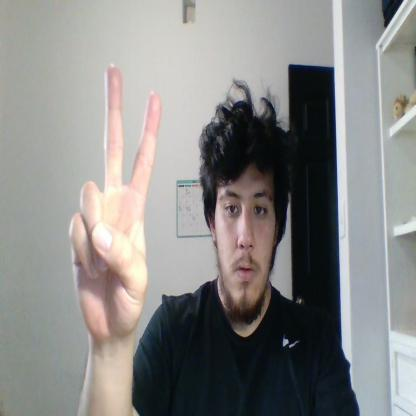V: (70, 63, 162, 338)
